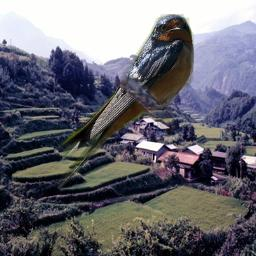Swallow: (57, 14, 194, 189)
